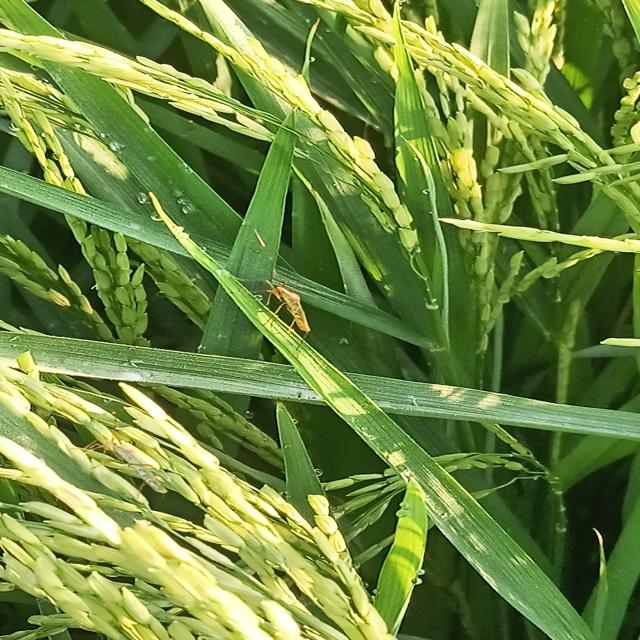green leaf hopper: (214, 224, 349, 364)
